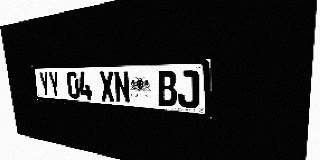0: (66, 72, 80, 99)
4: (78, 71, 92, 100)
B: (157, 71, 177, 107)
J: (177, 70, 199, 109)
N: (113, 71, 131, 103)
X: (99, 71, 115, 102)
Y: (48, 72, 61, 98), (39, 72, 51, 97)
